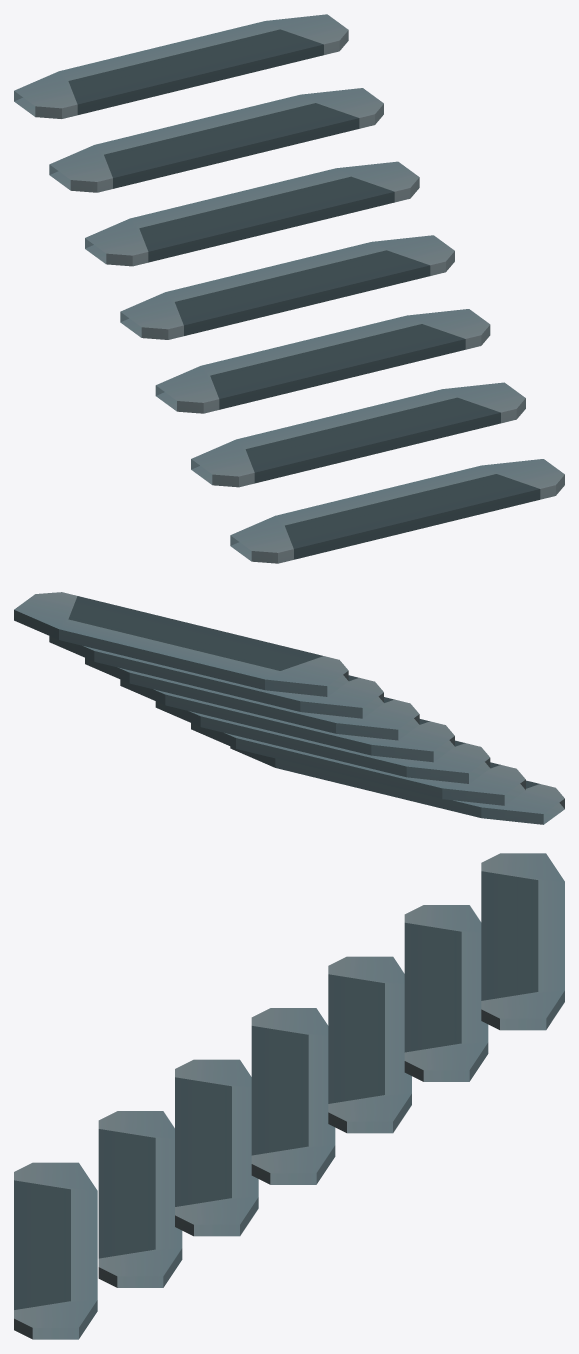
File: Stair_type_C_002.fbx
3 renders of one model, top to bottom at view 1: azimuth 30°, elevation 25°; view 2: azimuth 150°, elevation 25°; view 3: azimuth 270°, elevation 25°, orthographic. The views are drawn at different scales.
Visible parts, largest first — view 1: Stair_type_C_002; view 2: Stair_type_C_002; view 3: Stair_type_C_002.
Boxes of the visible parts, box(x1,y1,x2,y2) form: Stair_type_C_002: box(14, 14, 564, 563); Stair_type_C_002: box(14, 592, 564, 824); Stair_type_C_002: box(14, 853, 564, 1339).
Bounding box in the file's own units: 152 × 214 × 138.
